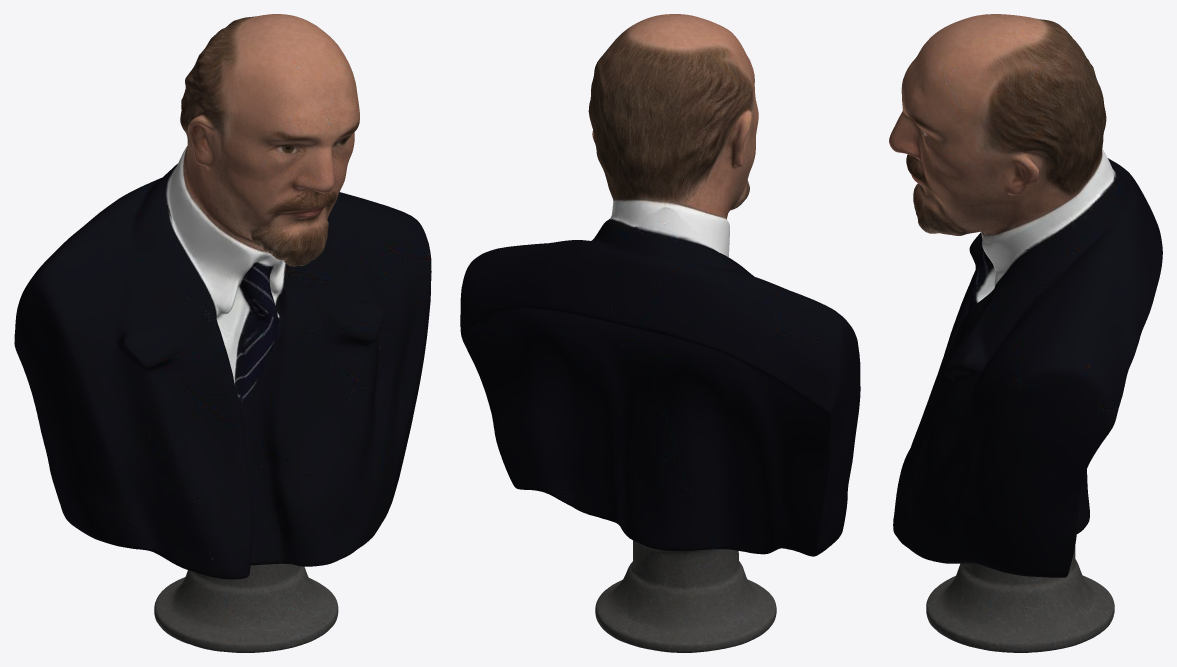
File: vladimir-lenin.glb
The picture shows the model from 3 angles, left to right: view 1: azimuth 30°, elevation 25°; view 2: azimuth 150°, elevation 25°; view 3: azimuth 270°, elevation 25°; orthographic projection. The views are drawn at different scales.
Size of the model in its own units: 1.3 by 1.9 by 0.7779.
Materials: 1 (1 with a texture image).
